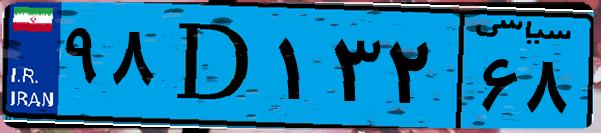1: (270, 28, 330, 110)
2: (385, 28, 445, 110)
3: (330, 28, 385, 110)
6: (475, 38, 525, 113)
8: (525, 38, 570, 115), (110, 28, 158, 98)
9: (57, 26, 110, 100)
D: (158, 12, 270, 120)
